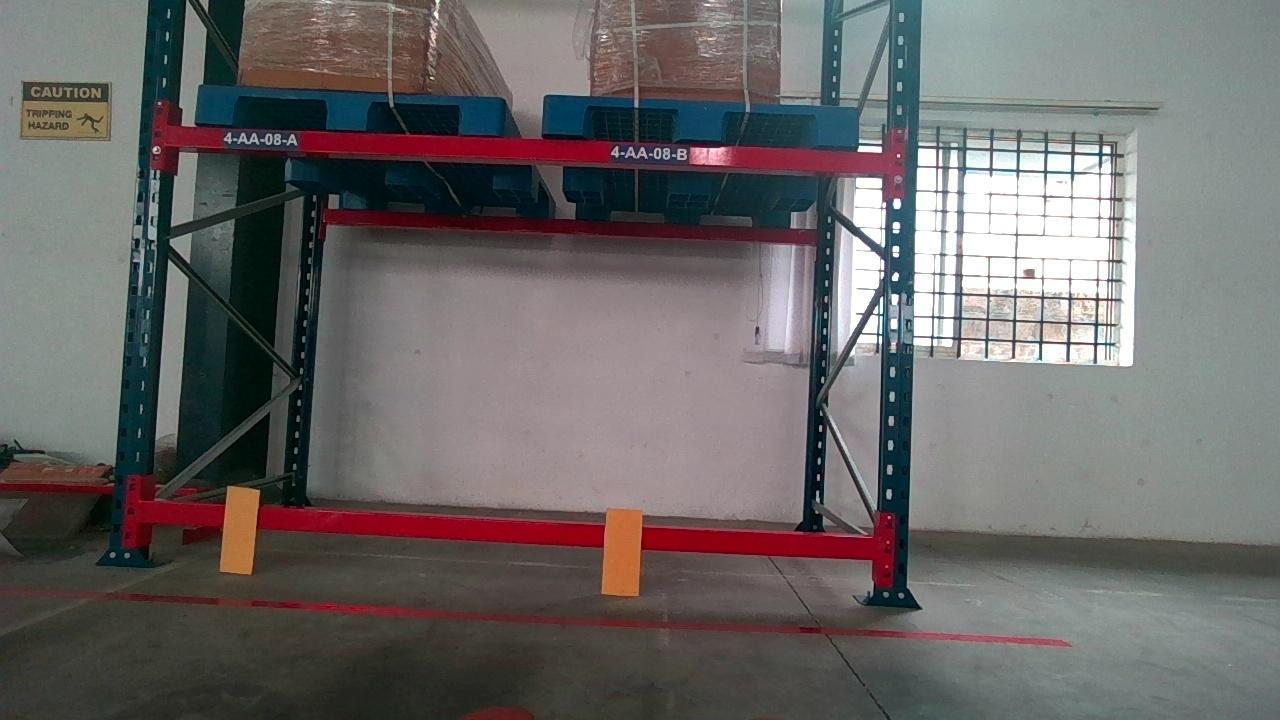h_rack: (142, 502, 882, 558), (179, 128, 901, 177)
orange_strip: (601, 507, 642, 595), (218, 486, 258, 572)
red_line: (92, 586, 1072, 648)
small_pallet: (544, 96, 867, 143), (192, 88, 500, 130)
